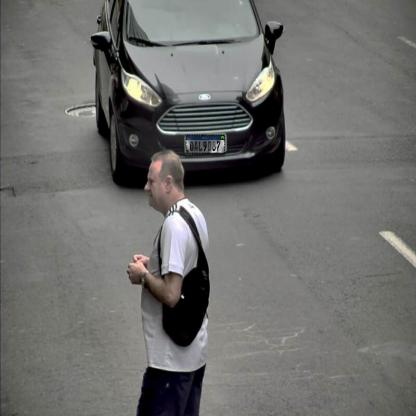PlacaM: (186, 134, 225, 154)
